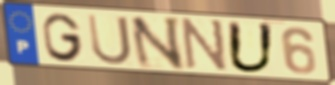6: (278, 25, 317, 75)
G: (40, 11, 86, 63)
N: (128, 16, 187, 72), (181, 17, 229, 75)
U: (225, 19, 277, 75), (85, 13, 134, 67)
